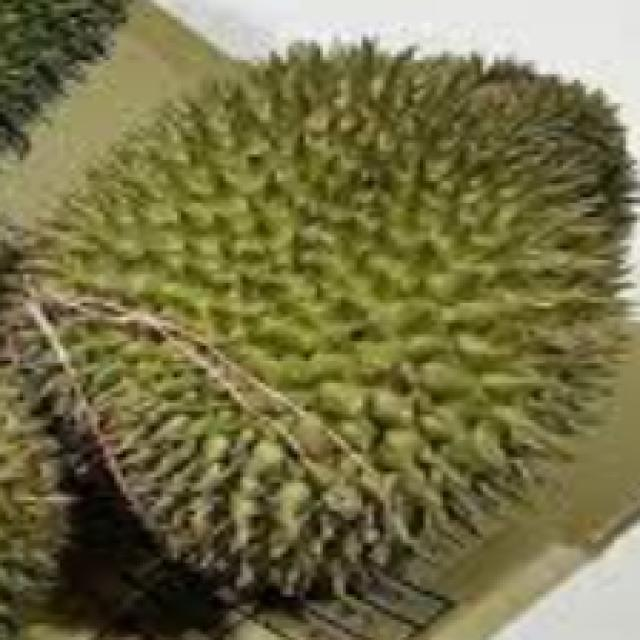d101: (55, 48, 616, 535)
